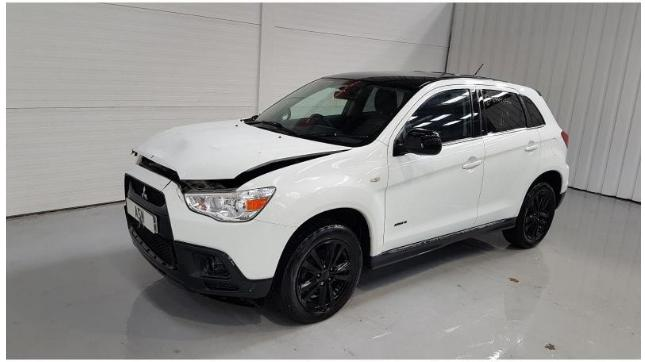Back-bumper: (559, 165, 569, 194)
Back-door: (474, 85, 540, 227)
Back-wheel: (502, 181, 558, 249)
Back-window: (483, 90, 526, 134), (521, 95, 546, 129)
Fender: (238, 138, 389, 258)
Front-bumper: (122, 162, 297, 301)
Front-door: (384, 84, 484, 252)
Front-wheel: (274, 219, 362, 323)
Front-window: (393, 88, 473, 144)
Grille: (131, 177, 166, 207)
Headlight: (184, 186, 278, 223)
Hood: (133, 116, 358, 180)
License-plate: (127, 199, 158, 234)
Mirror: (393, 129, 442, 157)
Quarter-panel: (536, 123, 568, 176)
Rocker-panel: (371, 217, 517, 271)
Roof: (321, 71, 507, 87)
Tail-light: (561, 130, 569, 146)
Windshield: (250, 78, 422, 147)
